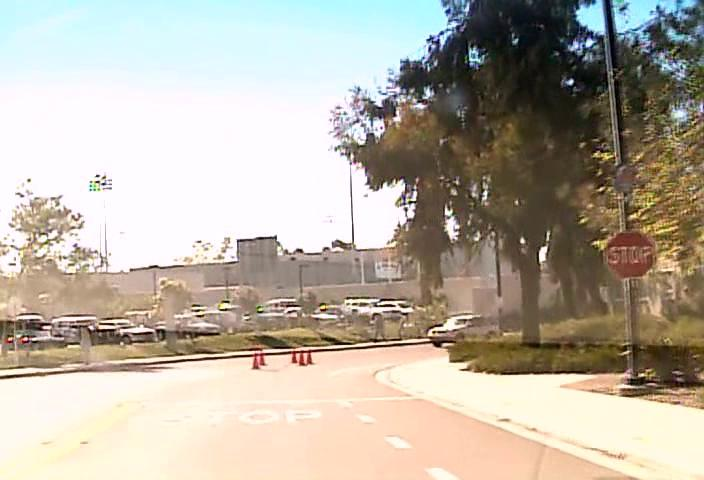stop: (603, 229, 656, 278)
